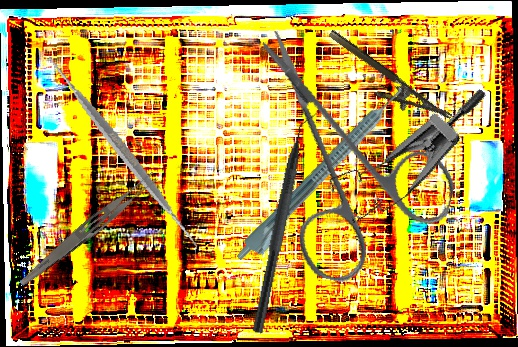Chopper: (251, 104, 323, 337)
Dressing Forceps: (17, 167, 161, 294)
Handpiece: (232, 83, 415, 271)
Iris Scissors: (211, 28, 481, 304)
Needle Holder: (316, 28, 453, 139)
Spatula Surgical: (14, 46, 232, 259)
Speculum: (314, 46, 490, 250)
